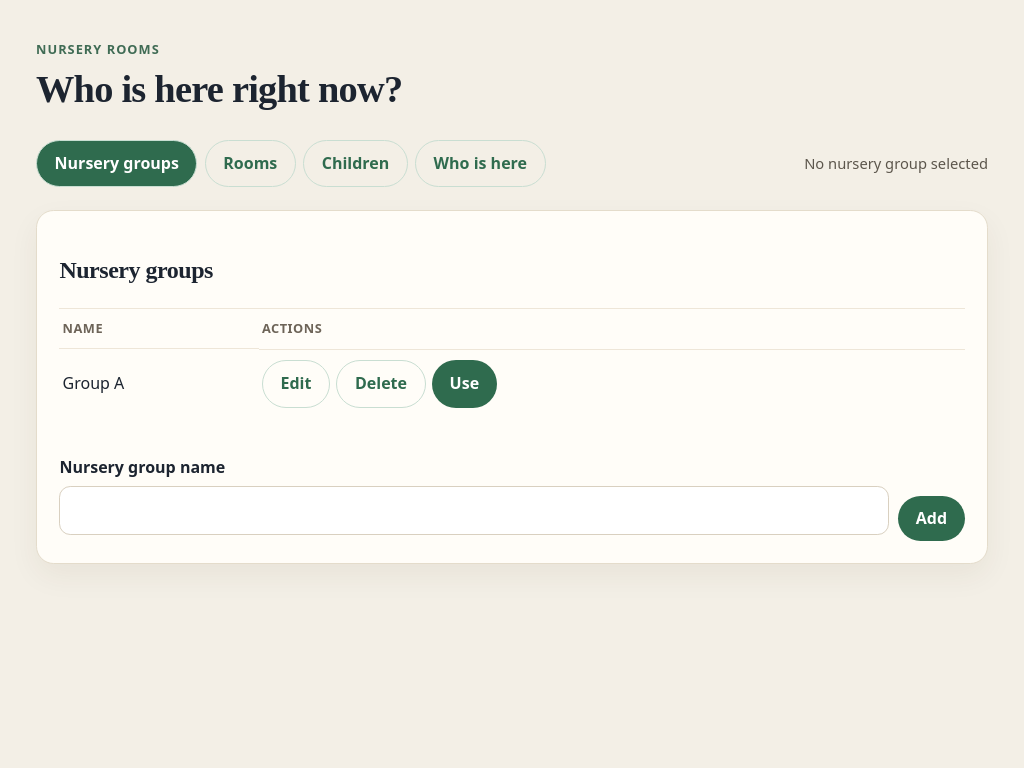
it: directory tables › opens a room by name and checks a child in by name
Expected: the text "Group A" is shown, [59,349,259,418]
Click the button "Use".
click(464, 384)  # box [432,360,497,408]
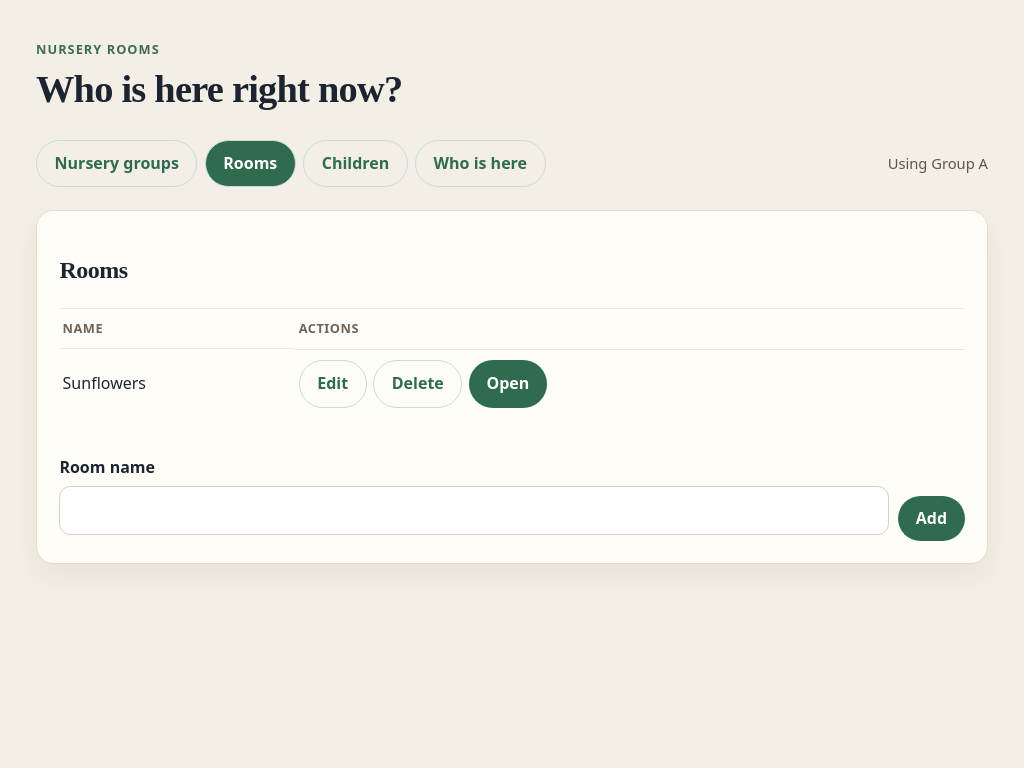
Now the heading "Rooms" is shown, box [59,257,128,283]
Click the button "Open".
click(508, 384)  # box [469,360,547,408]
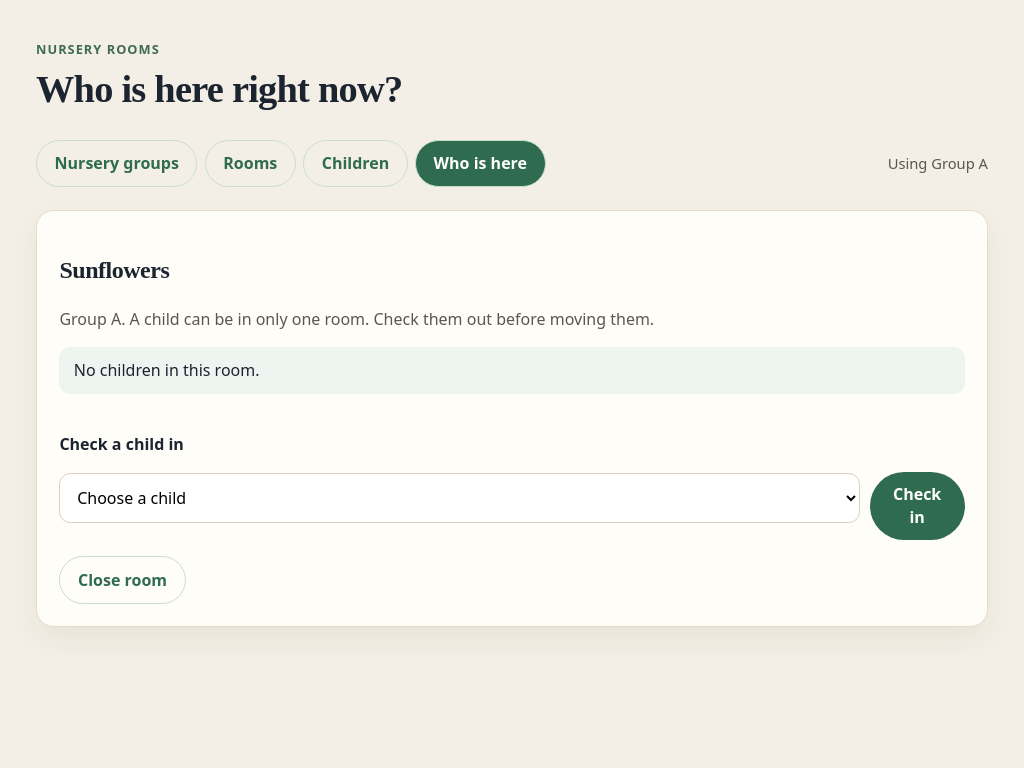
Now the text "No children in this room." is shown, box [59,347,965,394]
Select "Ava" in the dropdown labelled "Check a child in" at (460, 498), box [59,473,860,523]
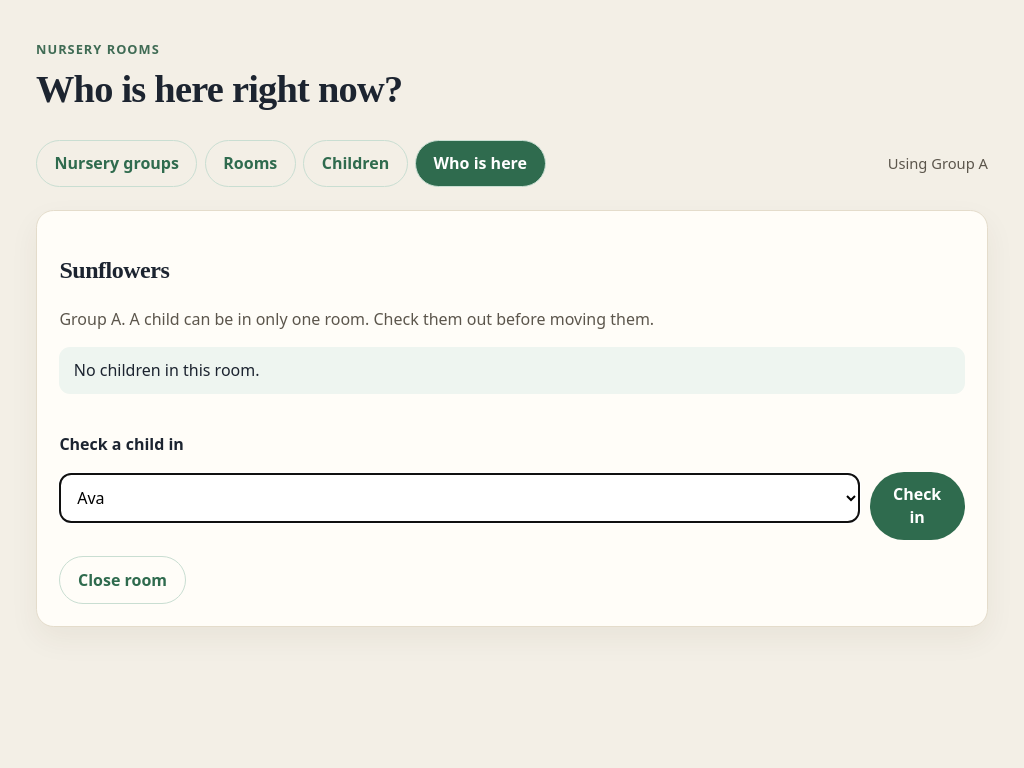
Click the button "Check in".
click(917, 506)  # box [870,472,965,540]
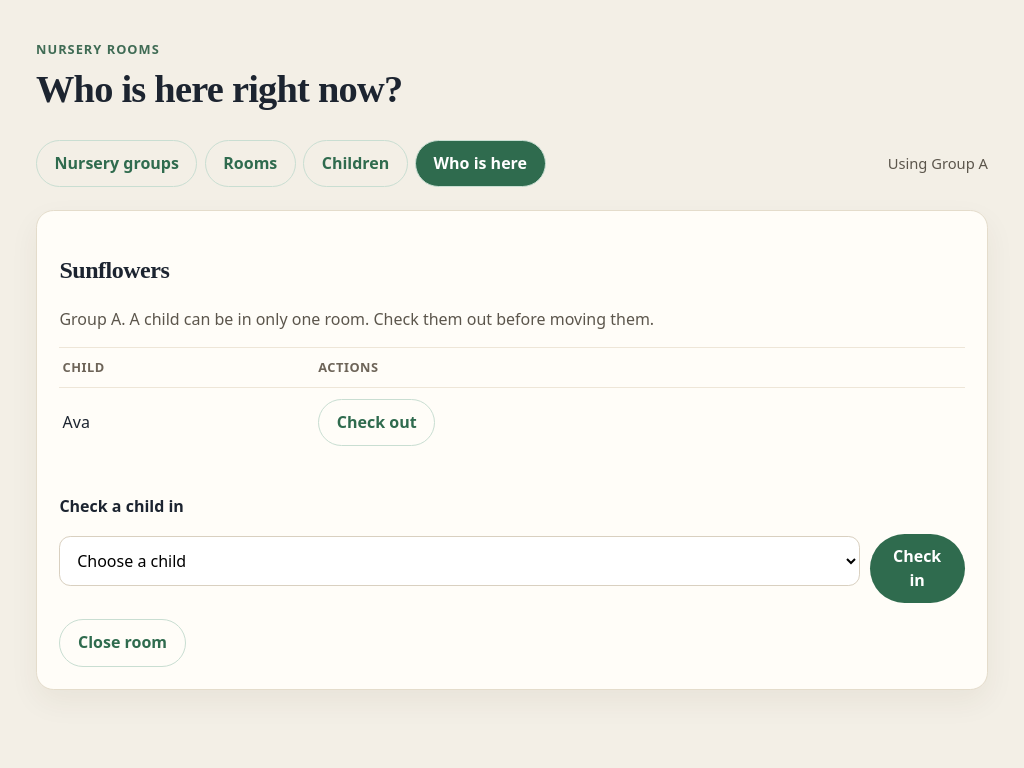
Now the cell "Ava" is shown, box [59,388,315,457]
